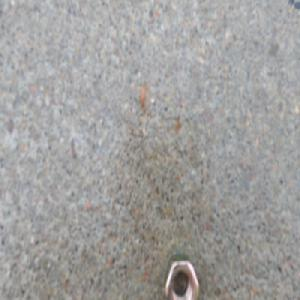Nut: (160, 249, 200, 300)
